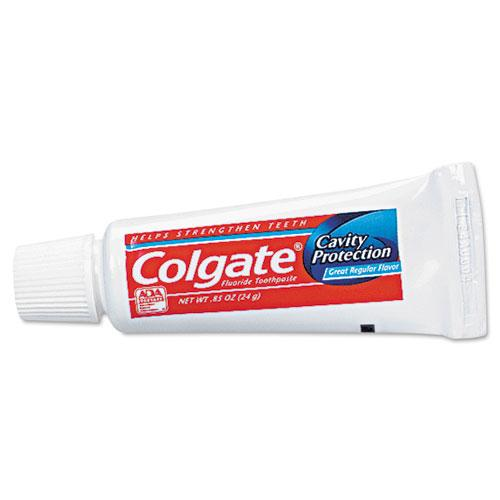toothpaste: (1, 155, 499, 359)
